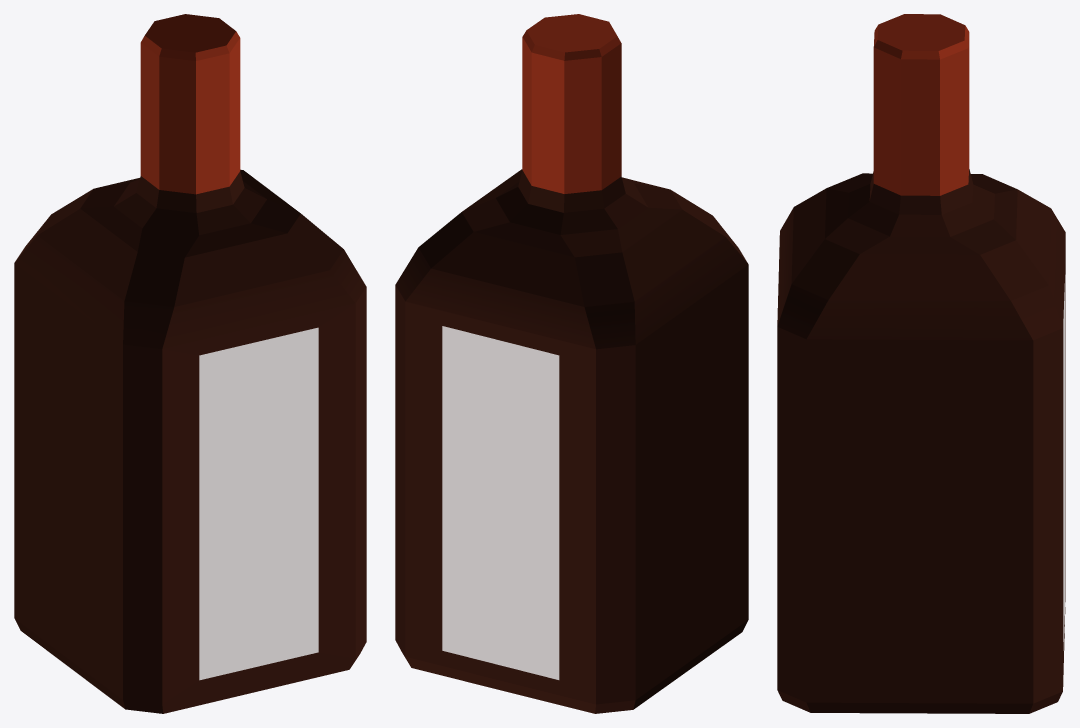
The model's file is Wine 7.fbx.
The picture shows the model from 3 angles, left to right: view 1: azimuth 30°, elevation 25°; view 2: azimuth 150°, elevation 25°; view 3: azimuth 270°, elevation 25°; orthographic projection. The views are drawn at different scales.
Parts seen in each view (by area): view 1: Node 0; view 2: Node 0; view 3: Node 0.
Part boxes in pixels (x1=…): Node 0: x1=14, y1=14, x2=366, y2=713; Node 0: x1=395, y1=14, x2=748, y2=713; Node 0: x1=777, y1=14, x2=1065, y2=713.
Size of the model in its own units: 0.0833 by 0.1985 by 0.0833.
